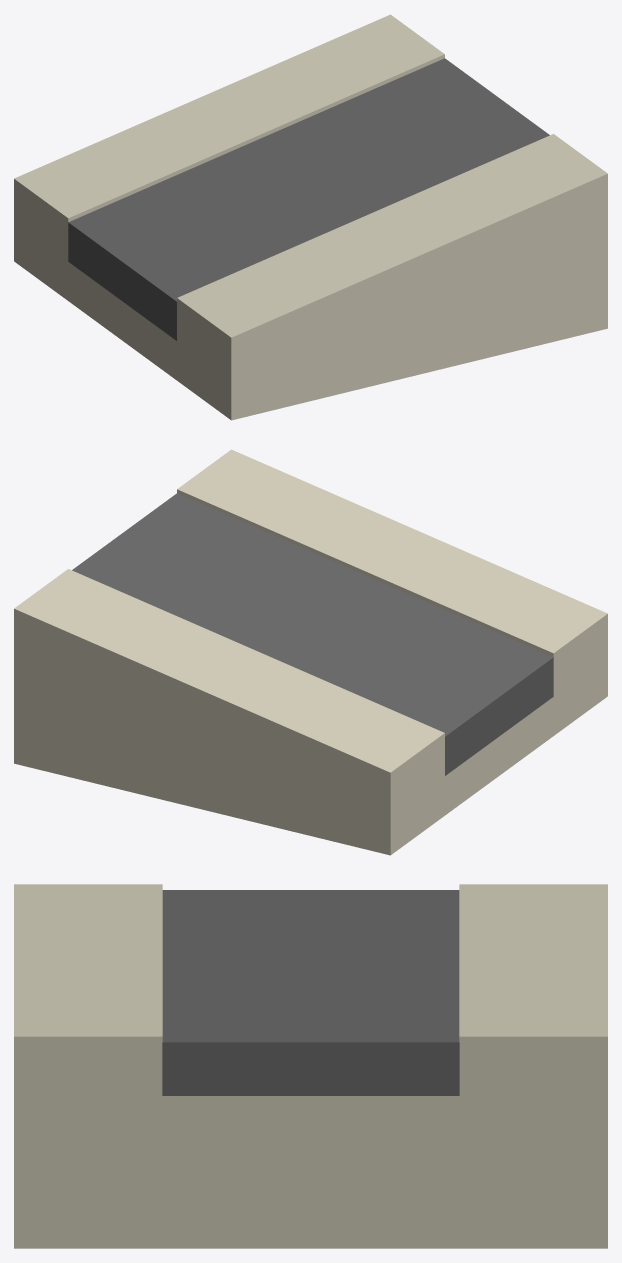
Rendered from tile004.fbx.
3 views of the same model, one above another, from view 1: azimuth 30°, elevation 25°; view 2: azimuth 150°, elevation 25°; view 3: azimuth 270°, elevation 25° (orthographic). The views are drawn at different scales.
Parts seen in each view (by area): view 1: tile004; view 2: tile004; view 3: tile004.
Boxes of the visible parts, x1,y1,x2,y2 form: tile004: (14, 14, 607, 420); tile004: (14, 449, 607, 855); tile004: (14, 884, 607, 1248).
Bounding box in the file's own units: 10 × 3.93 × 10.
